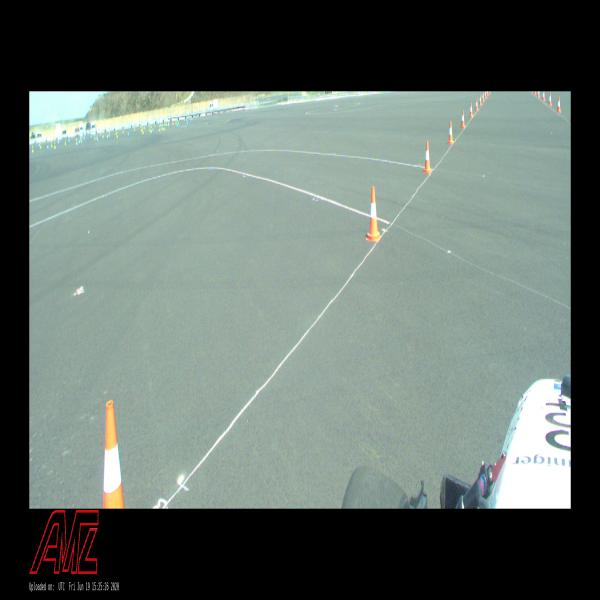blue_cone: (47, 144, 49, 151), (83, 135, 85, 142), (128, 131, 130, 138), (58, 139, 60, 145), (68, 138, 70, 144), (76, 136, 78, 142), (78, 139, 80, 145), (96, 136, 98, 142), (152, 127, 154, 133), (183, 118, 185, 123), (186, 121, 188, 126), (191, 117, 193, 122), (109, 130, 111, 134), (178, 120, 179, 127), (39, 142, 40, 148), (91, 134, 92, 140), (100, 132, 101, 138), (107, 134, 108, 140), (168, 122, 169, 128), (177, 123, 178, 129), (189, 118, 191, 121), (148, 123, 149, 128), (165, 121, 166, 126), (186, 118, 187, 123)
large_orange_cone: (102, 400, 125, 508)
orange_cone: (366, 186, 382, 242), (423, 140, 432, 173), (448, 121, 455, 144), (460, 110, 466, 129), (556, 96, 562, 113), (468, 102, 474, 118), (548, 93, 552, 107), (478, 95, 482, 106), (475, 98, 478, 112), (542, 91, 546, 101), (482, 91, 485, 102), (537, 91, 540, 97), (534, 92, 536, 95)
yellow_cone: (31, 145, 34, 153), (50, 140, 53, 148), (116, 131, 119, 138), (54, 141, 56, 149), (64, 138, 66, 146), (40, 143, 42, 149), (76, 139, 78, 145), (80, 137, 82, 143), (94, 134, 96, 140), (102, 132, 104, 138), (108, 131, 110, 137), (142, 128, 144, 134), (141, 126, 143, 132), (149, 126, 151, 132), (161, 124, 163, 130), (163, 124, 165, 130), (115, 130, 117, 136), (172, 120, 174, 125), (175, 120, 177, 125), (134, 127, 136, 131), (159, 125, 160, 132), (123, 128, 124, 134), (151, 126, 152, 132), (144, 125, 145, 129)
